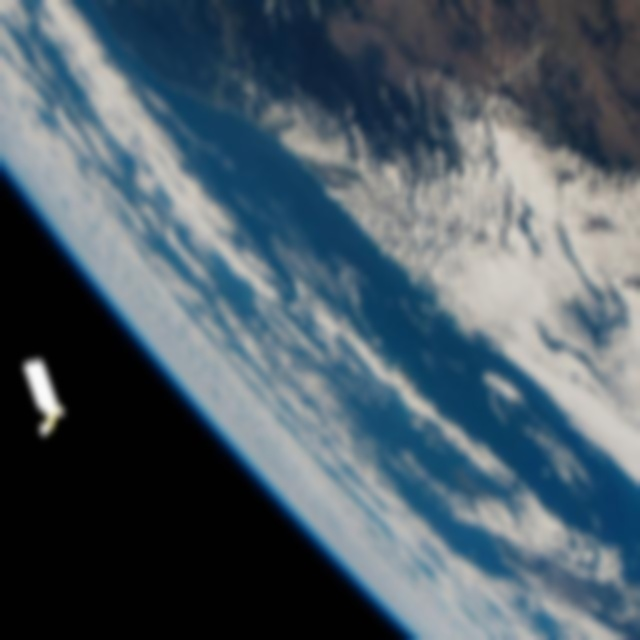satellite: (16, 340, 84, 440)
